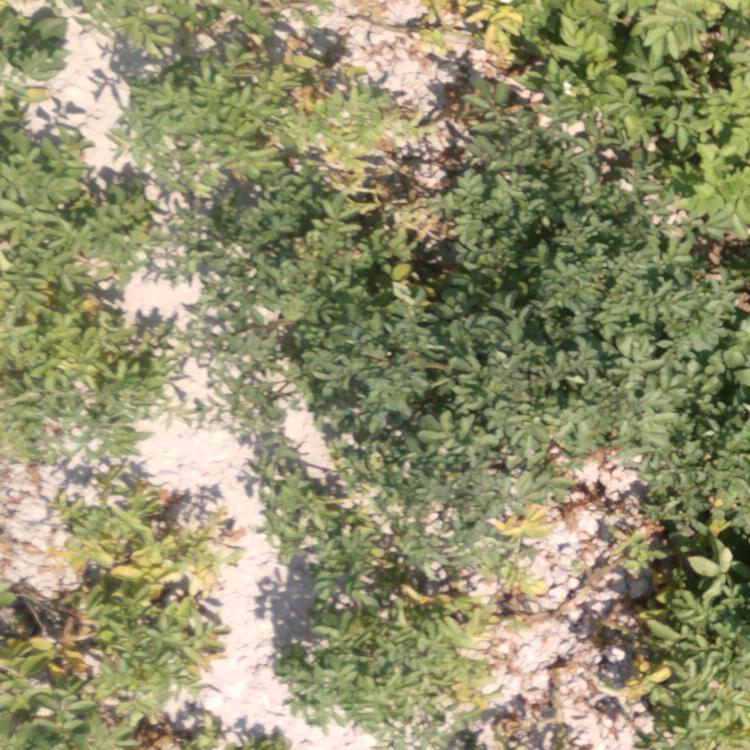healthy: (478, 156, 746, 457), (291, 467, 450, 739), (614, 478, 748, 750), (516, 7, 750, 154), (226, 300, 451, 452), (5, 6, 73, 242), (123, 1, 214, 156), (189, 183, 290, 289), (84, 179, 157, 240)
stressed: (63, 488, 198, 750), (229, 4, 411, 167), (1, 245, 147, 440), (450, 479, 549, 750), (300, 162, 466, 294), (405, 1, 509, 144), (5, 582, 61, 745), (199, 690, 287, 750)
